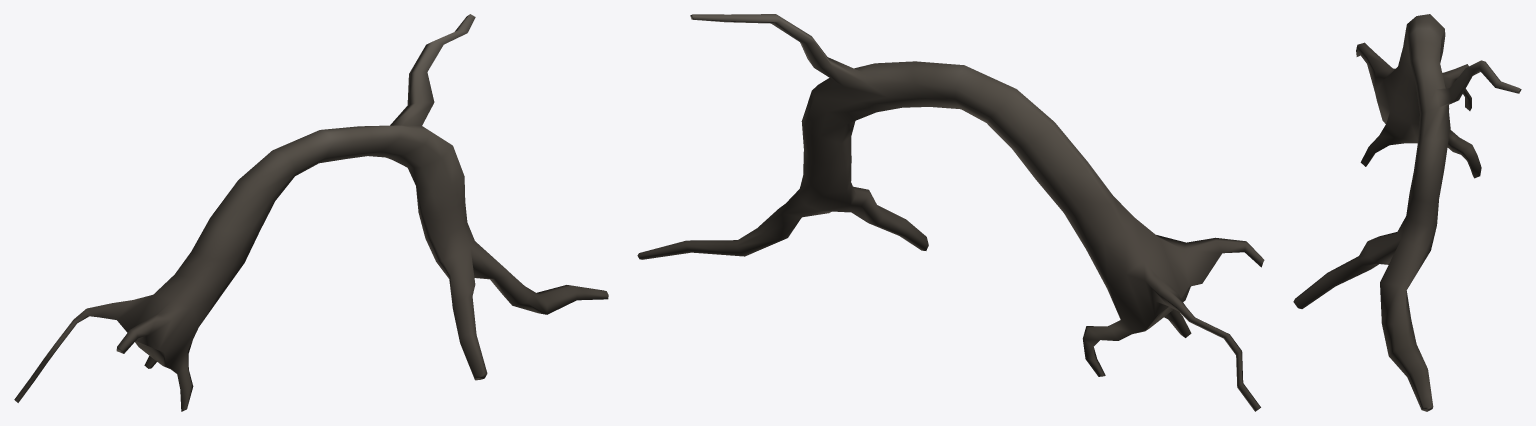
File: M_Trees_Round_01.fbx
3 views of the same model, side by side, from view 1: azimuth 30°, elevation 25°; view 2: azimuth 150°, elevation 25°; view 3: azimuth 270°, elevation 25° (orthographic). The views are drawn at different scales.
Parts seen in each view (by area): view 1: M_Root_RoundTree_01; view 2: M_Root_RoundTree_01; view 3: M_Root_RoundTree_01.
Boxes of the visible parts, bbox=[...] form: M_Root_RoundTree_01: bbox=[14, 14, 608, 411]; M_Root_RoundTree_01: bbox=[637, 14, 1264, 411]; M_Root_RoundTree_01: bbox=[1293, 14, 1521, 411].
Bounding box in the file's own units: 1038 × 474 × 352.
